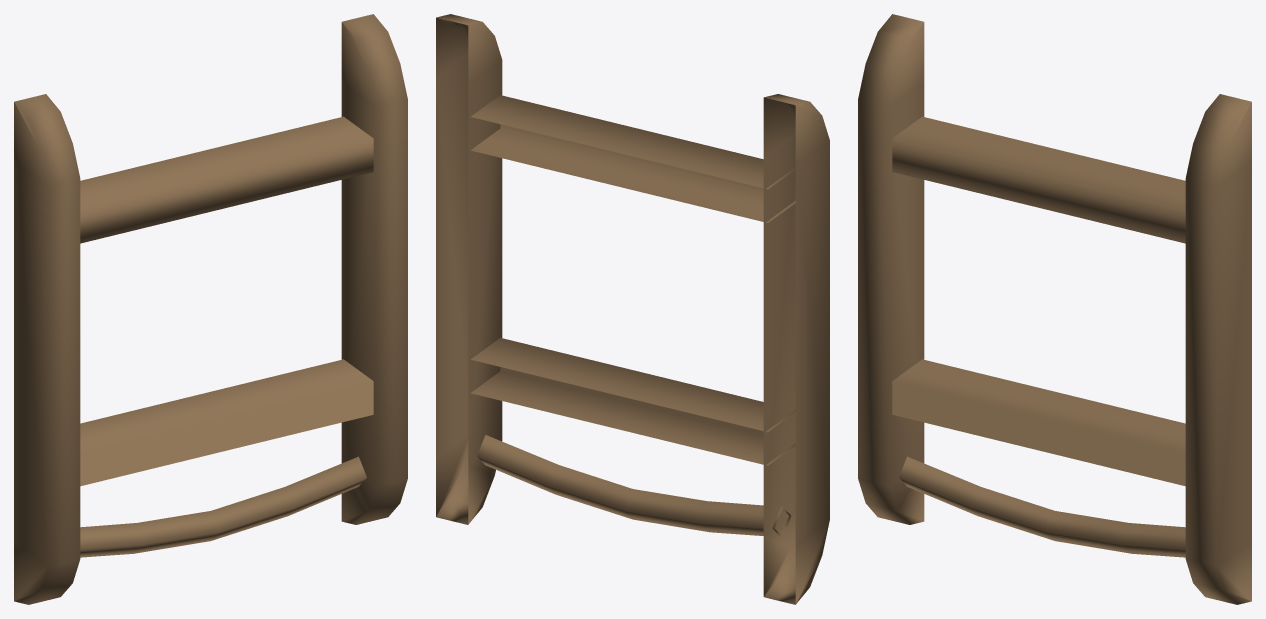
Rendered from rpgpp_ag_shelf_wall_02a.fbx.
3 renders of one model, left to right at view 1: azimuth 30°, elevation 25°; view 2: azimuth 150°, elevation 25°; view 3: azimuth 330°, elevation 25°, orthographic.
Parts seen in each view (by area): view 1: rpgpp_ag_shelf_wall_02a; view 2: rpgpp_ag_shelf_wall_02a; view 3: rpgpp_ag_shelf_wall_02a.
Boxes of the visible parts, x1,y1,x2,y2 form: rpgpp_ag_shelf_wall_02a: (14,14,407,604); rpgpp_ag_shelf_wall_02a: (436,14,829,604); rpgpp_ag_shelf_wall_02a: (858,14,1251,604).
Bounding box in the file's own units: 0.527 × 0.7 × 0.087.
